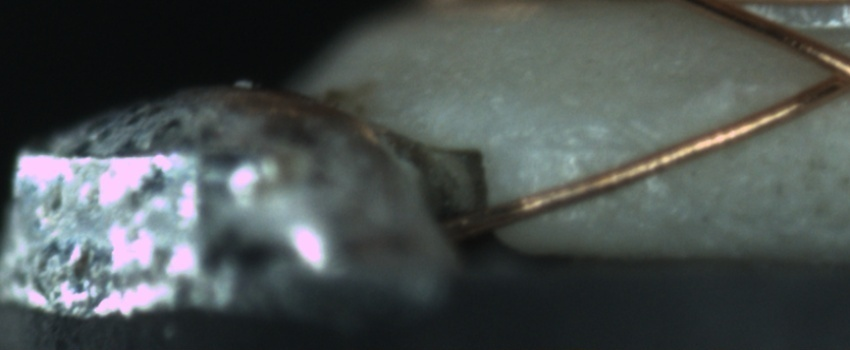CL: (798, 39, 849, 104)
DL: (515, 115, 648, 176)
